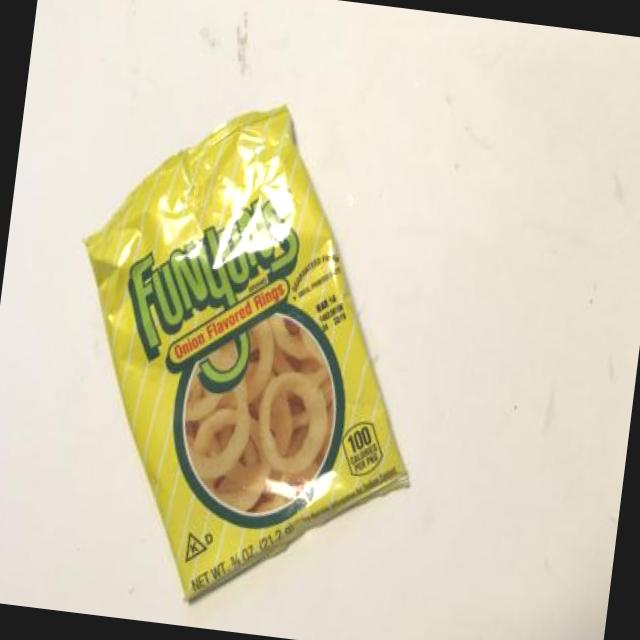bao_bi_thuc_pham: (83, 105, 411, 606)
